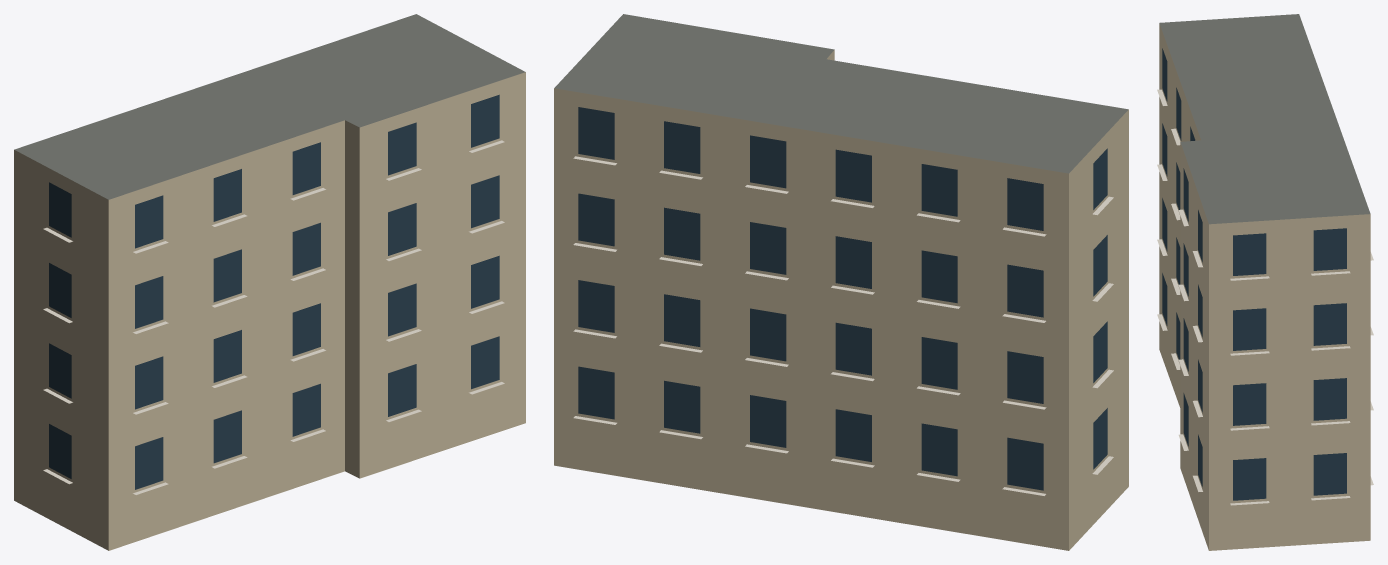
3 renders of one model, left to right at view 1: azimuth 30°, elevation 25°; view 2: azimuth 150°, elevation 25°; view 3: azimuth 270°, elevation 25°, orthographic. The views are drawn at different scales.
Visible parts, largest first — view 1: Footprint 0, Inferred window bays, Window sills; view 2: Footprint 0, Inferred window bays, Window sills; view 3: Footprint 0, Inferred window bays, Window sills.
Boxes of the visible parts, x1,y1,x2,y2 form: Footprint 0: [14, 14, 525, 550]; Inferred window bays: [49, 94, 499, 489]; Window sills: [43, 140, 504, 494]; Footprint 0: [554, 14, 1128, 550]; Inferred window bays: [578, 107, 1107, 490]; Window sills: [573, 156, 1113, 495]; Footprint 0: [1159, 14, 1370, 550]; Inferred window bays: [1162, 48, 1346, 500]; Window sills: [1157, 89, 1373, 505].
Size of the model in its own units: 18.41 by 13.25 by 7.97.
